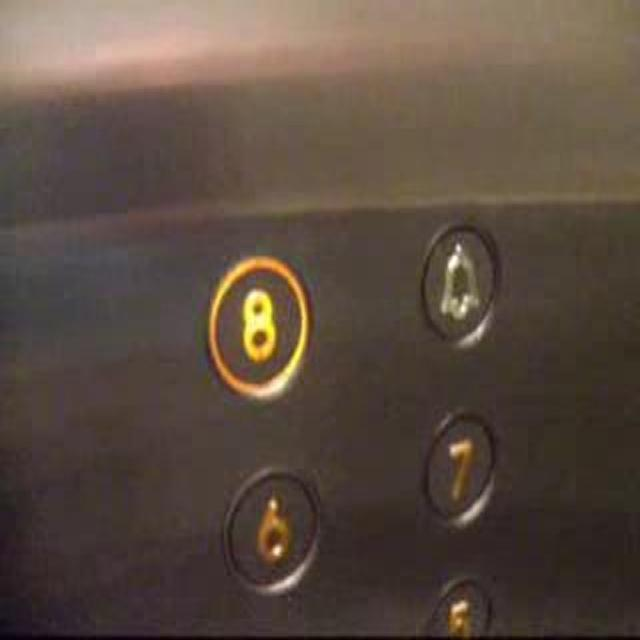6: (217, 461, 325, 608)
7: (418, 402, 500, 530)
8: (204, 253, 313, 407)
alarm: (420, 222, 500, 354)
